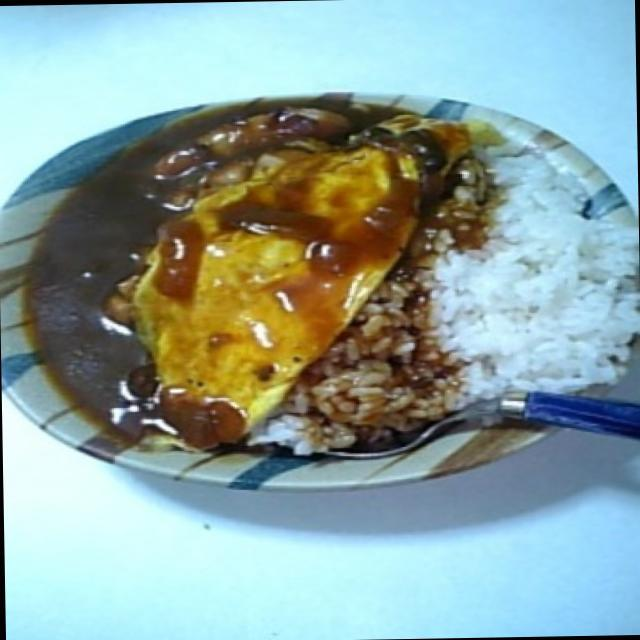Beef Curry: (80, 87, 374, 416)
